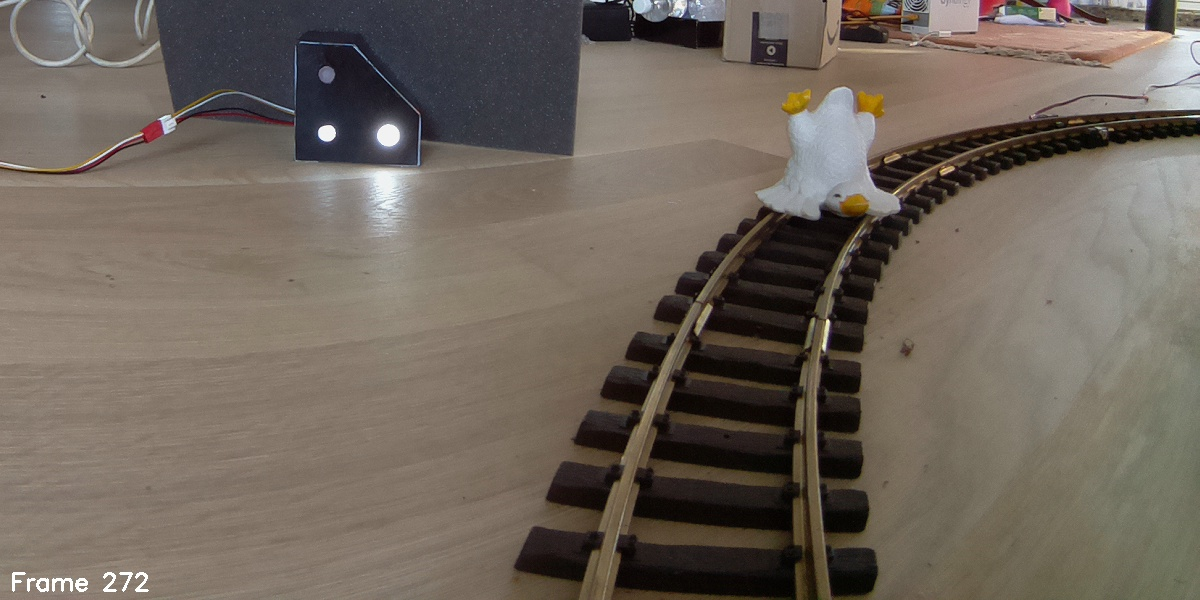Halt: (294, 33, 422, 167)
